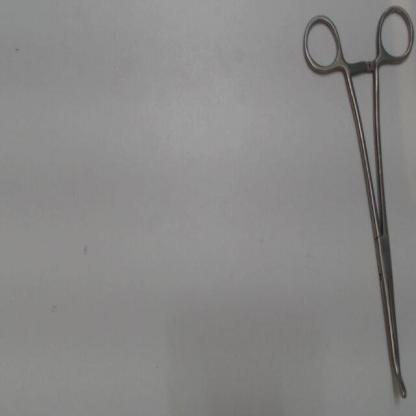Lahey Forceps: (297, 1, 414, 406)
